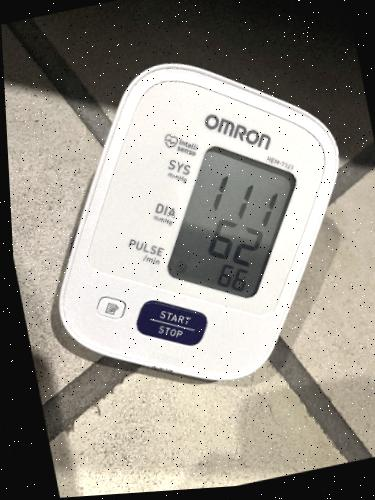bpm: (161, 143, 299, 306)
